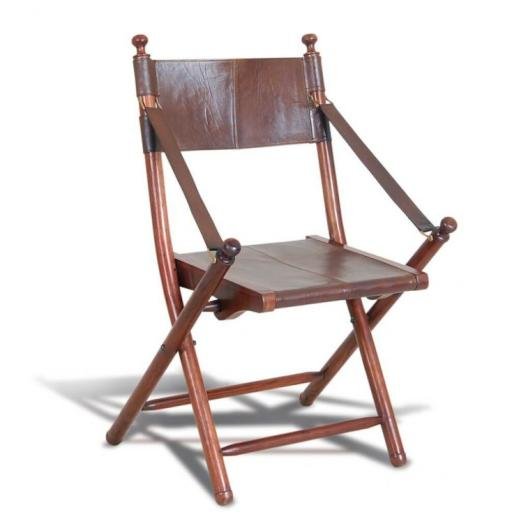chair: (105, 34, 458, 505)
